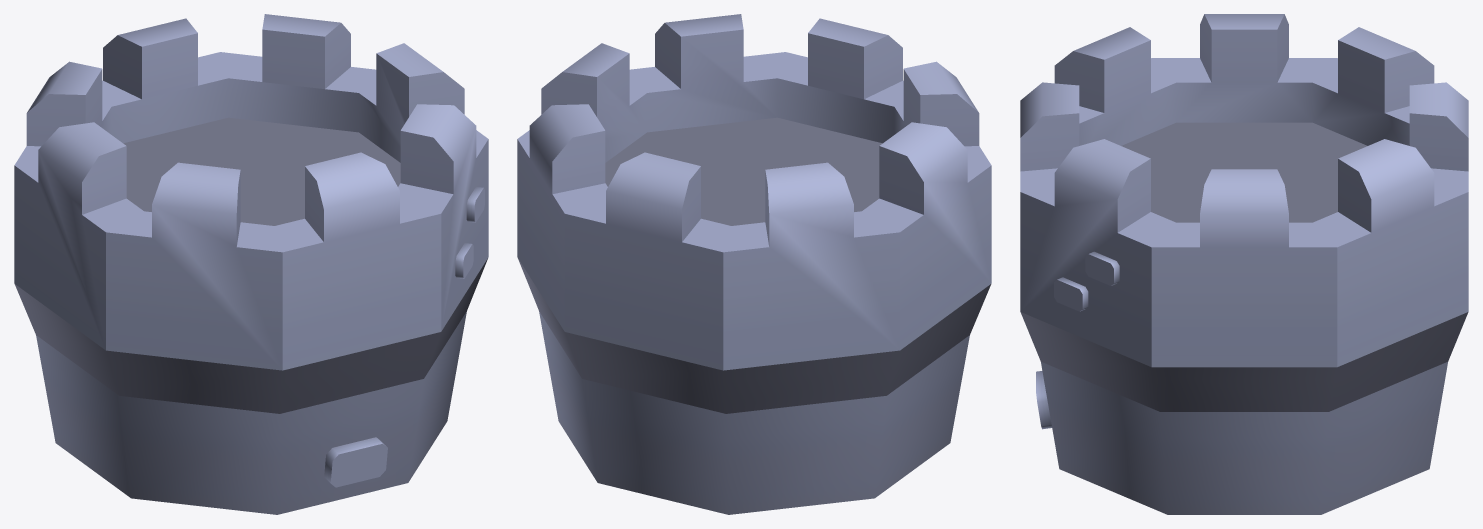
File: tower-top.glb
3 views of the same model, side by side, from view 1: azimuth 30°, elevation 25°; view 2: azimuth 150°, elevation 25°; view 3: azimuth 270°, elevation 25° (orthographic).
Visible parts, largest first — view 1: tower-top; view 2: tower-top; view 3: tower-top.
Boxes of the visible parts, x1,y1,x2,y2 form: tower-top: [14, 14, 488, 514]; tower-top: [517, 14, 991, 514]; tower-top: [1020, 14, 1468, 514].
Size of the model in its own units: 3.35 by 2.79 by 3.35.
Materials: 1 (1 with a texture image).
